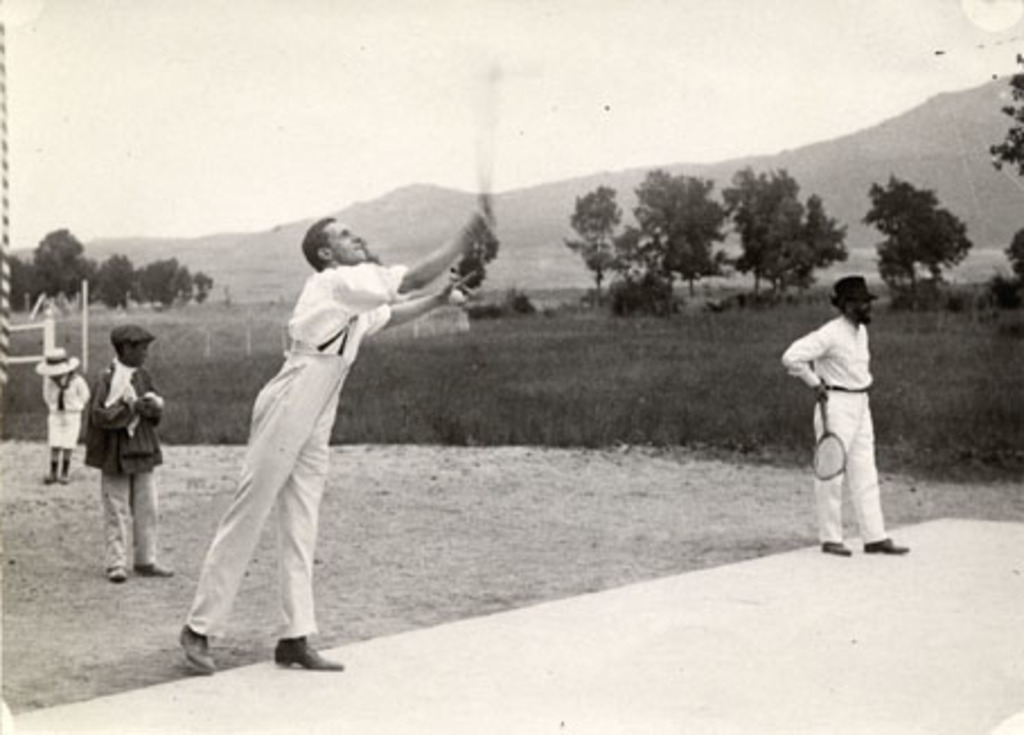Person: (175, 215, 493, 679), (779, 274, 910, 554), (86, 324, 175, 581), (37, 348, 89, 483)
